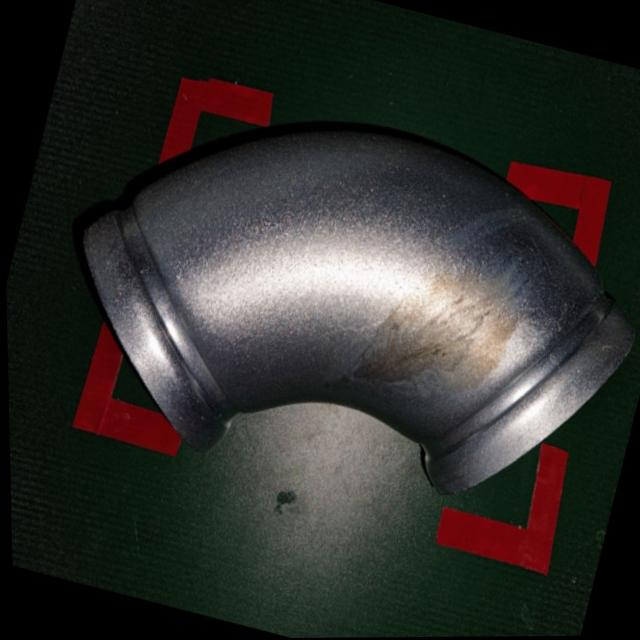Burn: (334, 221, 528, 441)
Defect: (31, 29, 640, 550)
